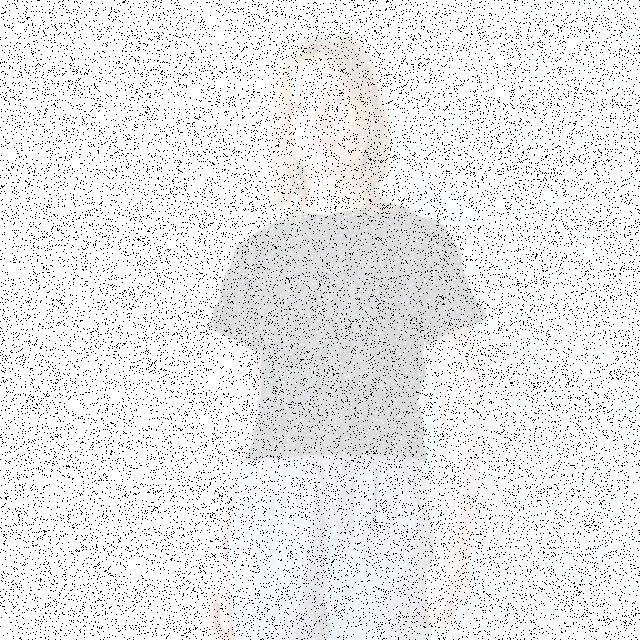dress: (203, 202, 492, 452)
